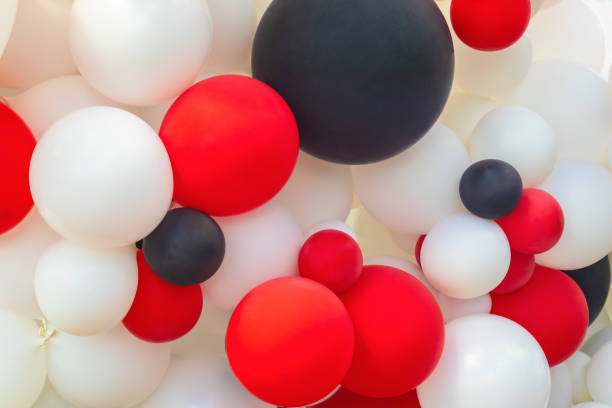Balloon: (253, 1, 455, 167), (158, 74, 299, 215), (28, 107, 171, 243), (226, 278, 354, 405), (69, 1, 213, 107), (341, 267, 443, 393), (417, 312, 550, 408), (34, 239, 139, 335), (423, 210, 510, 297), (141, 209, 224, 284), (297, 230, 364, 289), (450, 1, 530, 50), (459, 159, 522, 215)
